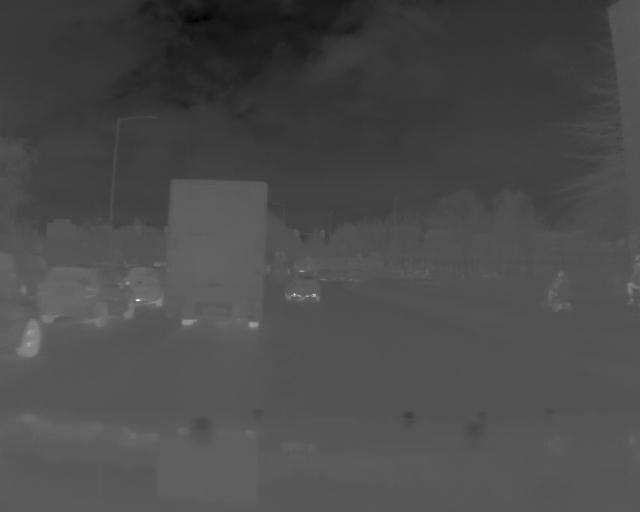car: (167, 177, 270, 336), (31, 260, 138, 327), (123, 258, 166, 312), (281, 271, 328, 304)
